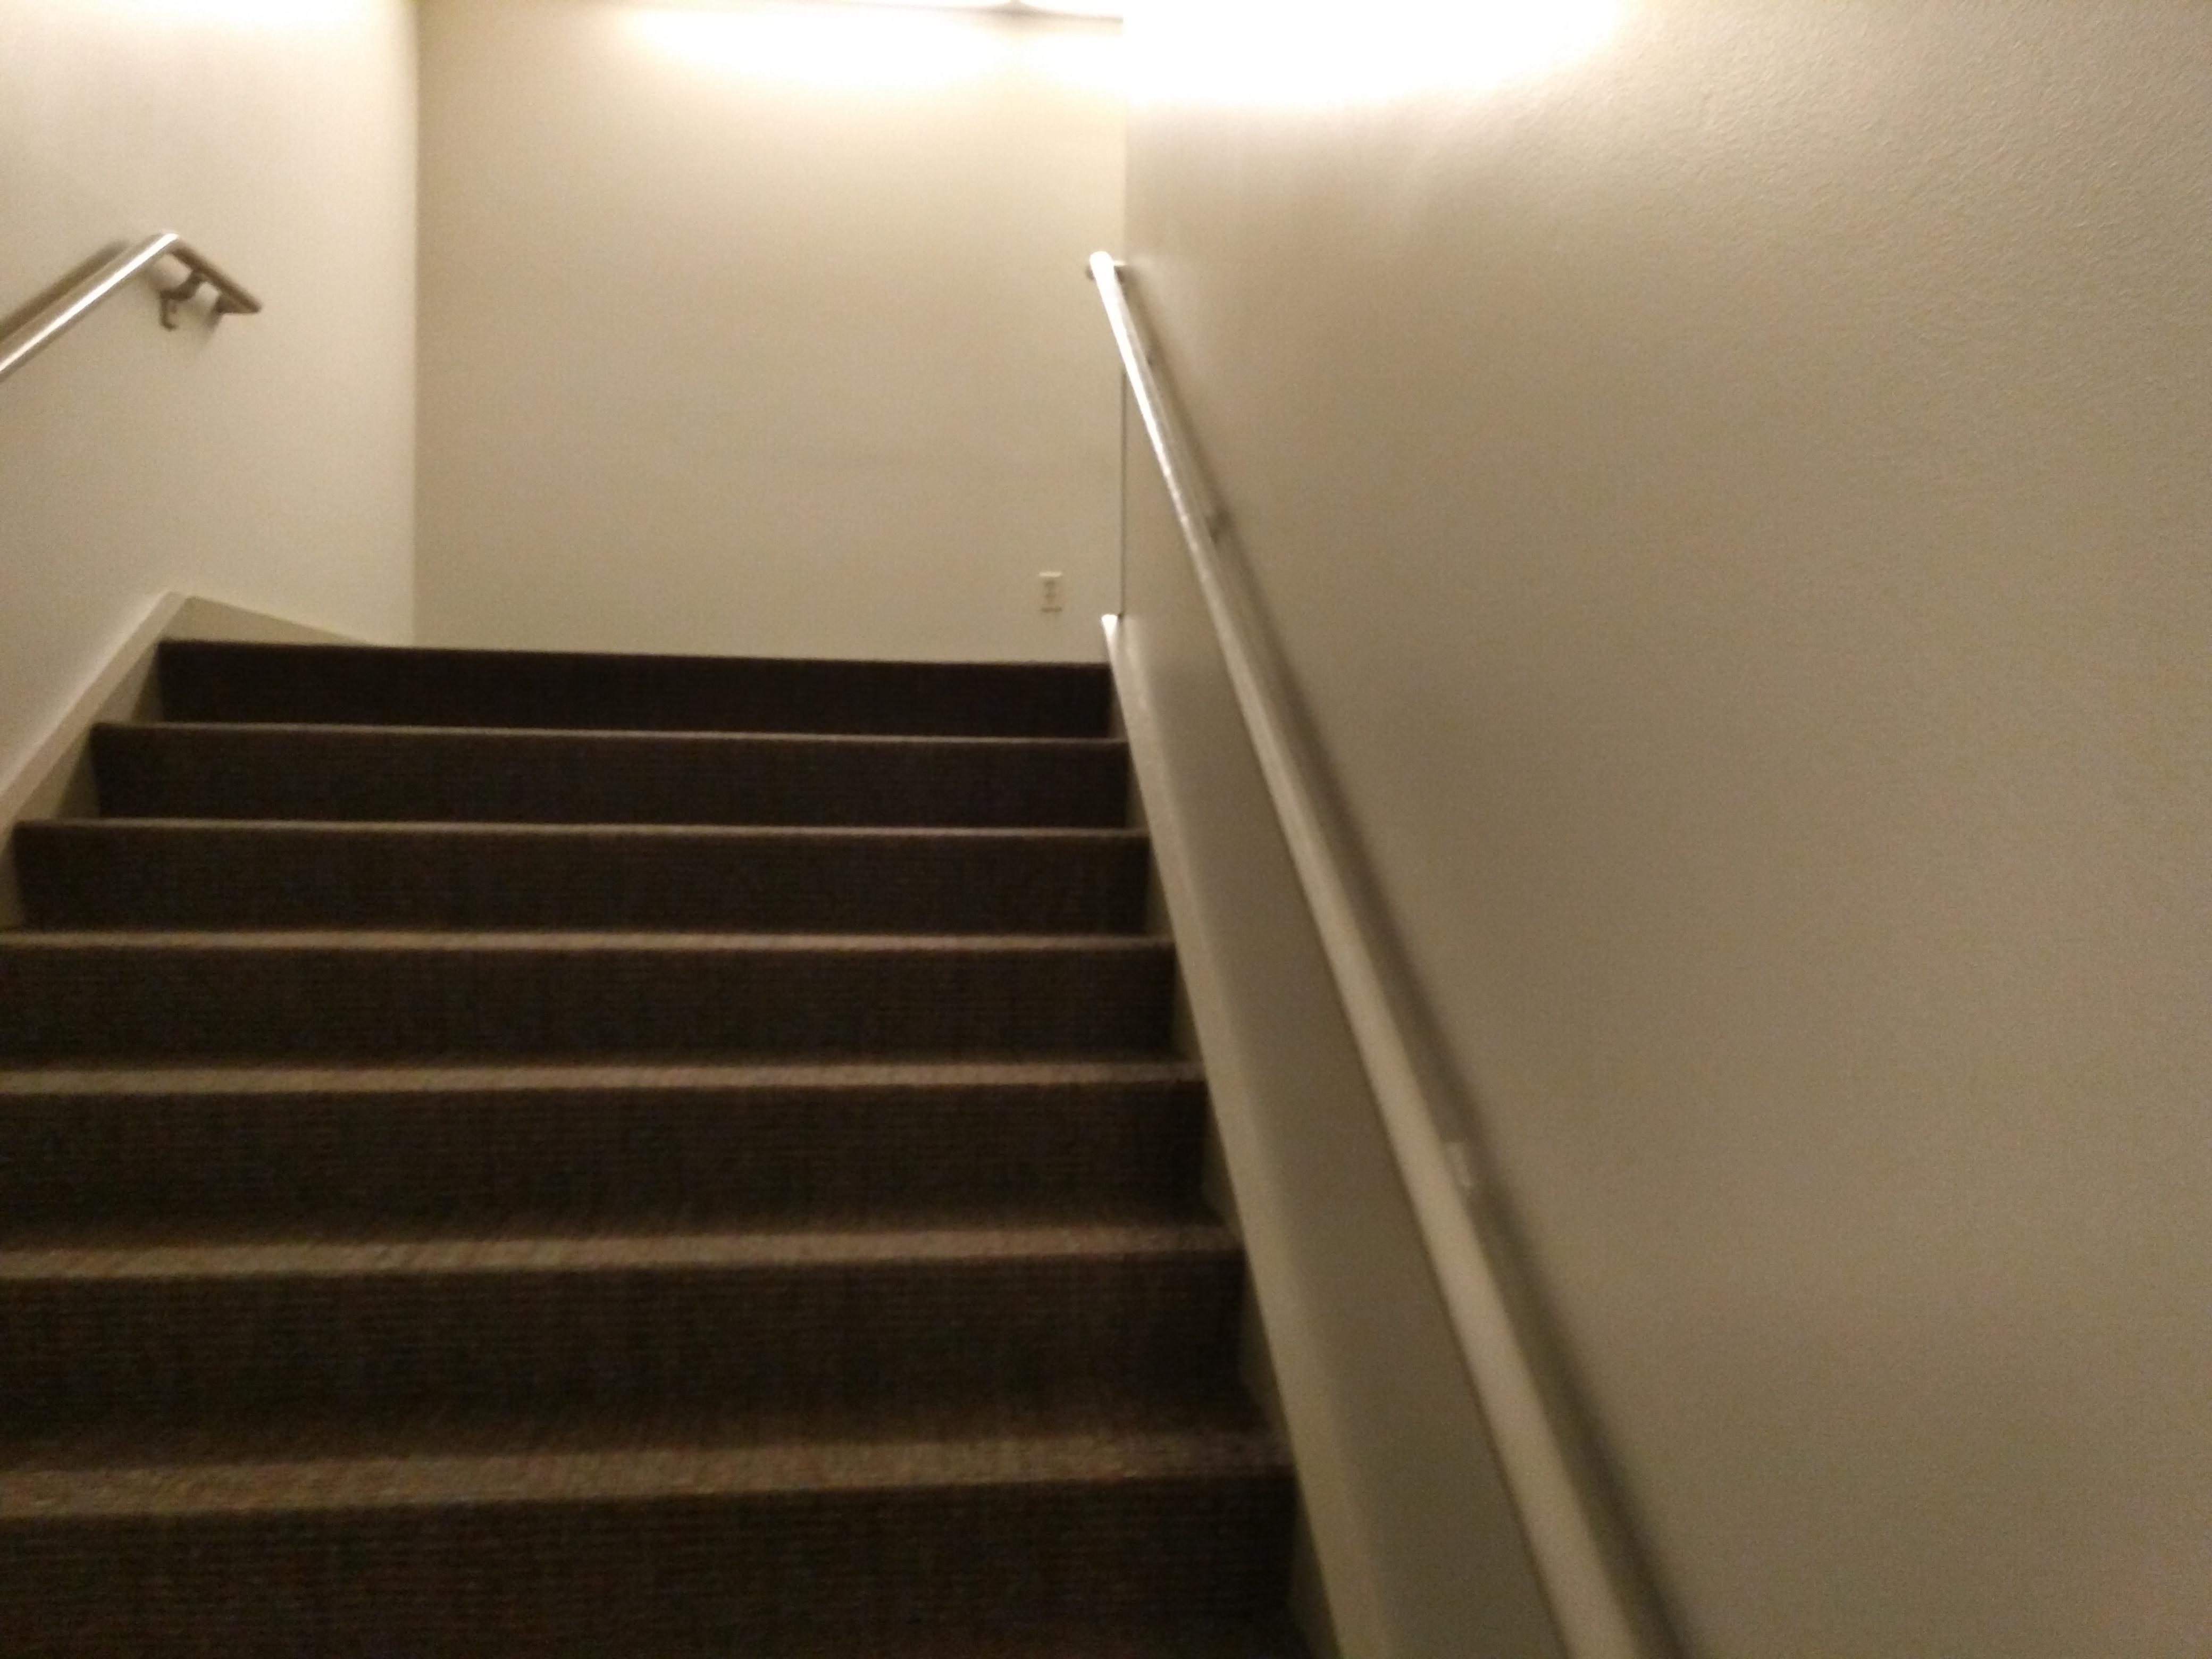stairs_up: (26, 615, 1291, 1551)
